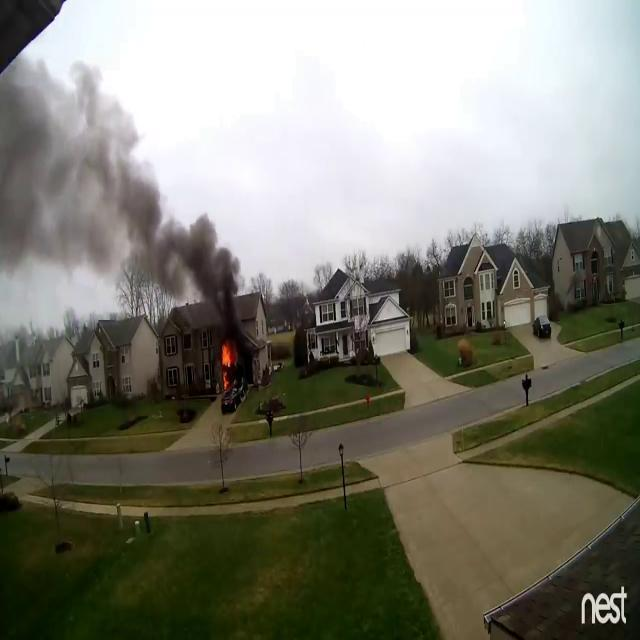Fire: (216, 340, 235, 388)
Smoke: (0, 58, 149, 294), (146, 198, 248, 338)
